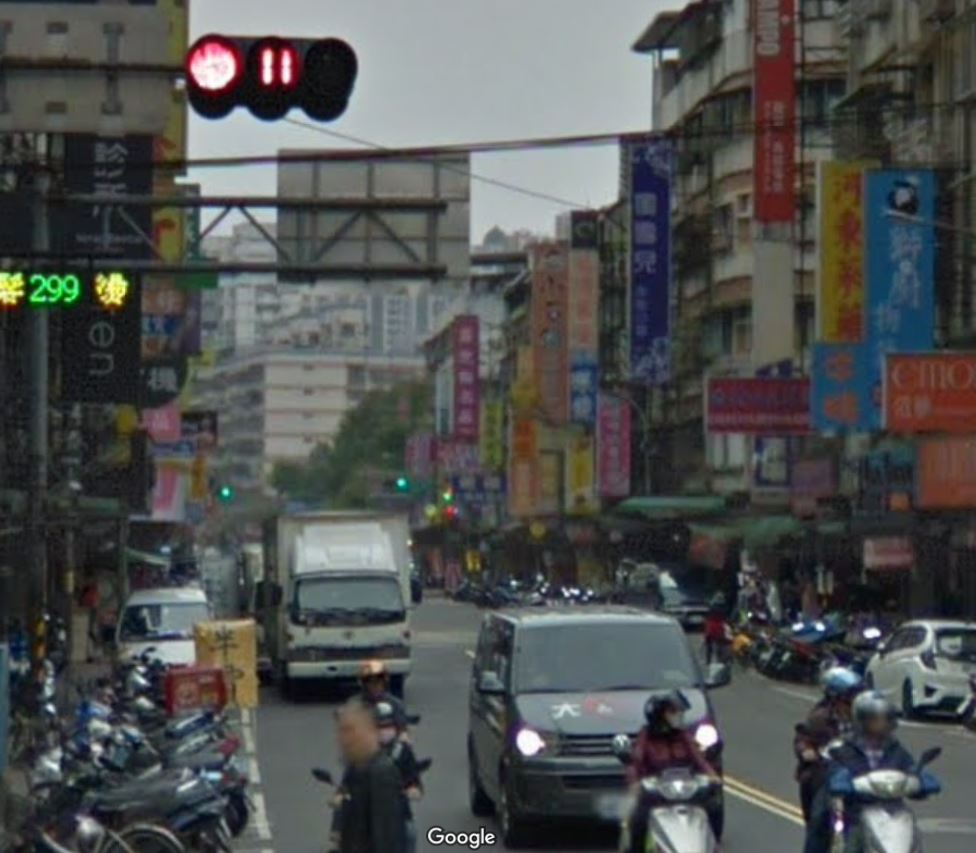Traffic_light_red: (183, 31, 360, 113)
